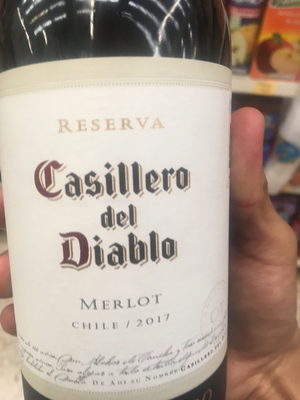casillero del diablo merlot: (1, 14, 245, 400)
